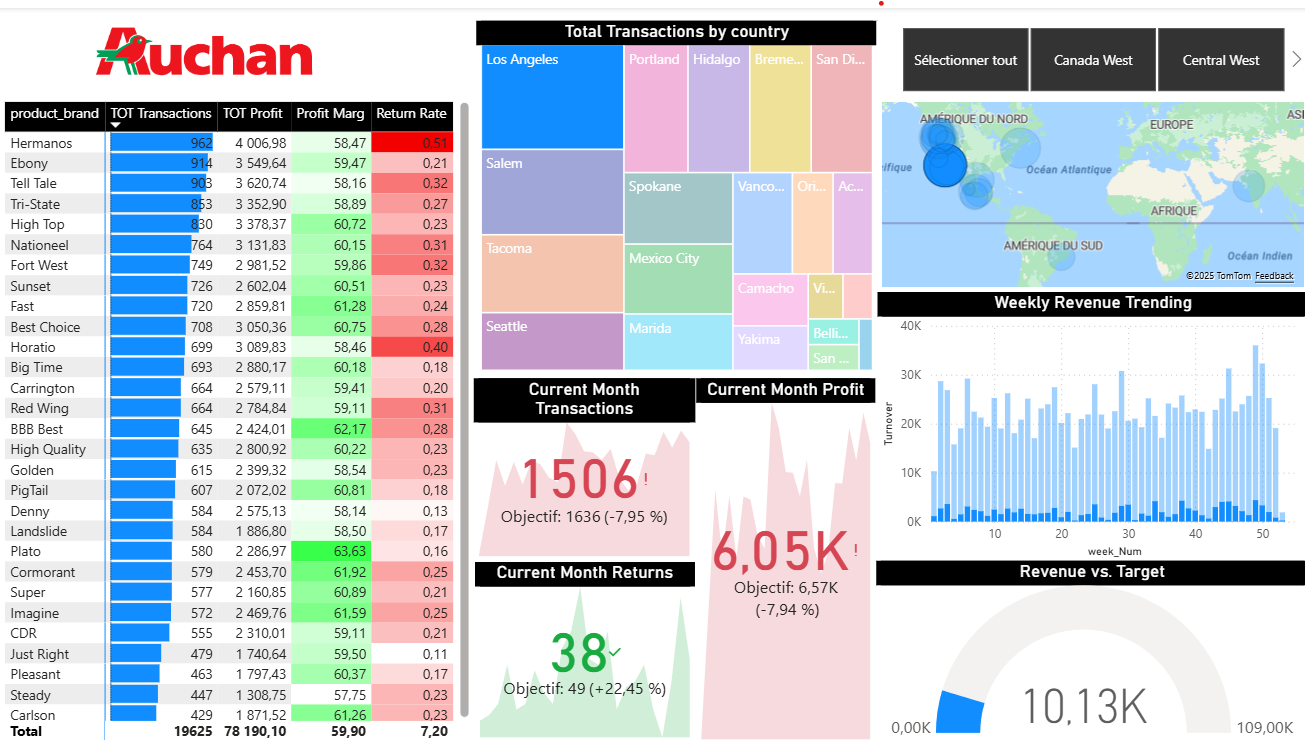

Layout of this report page (visuals, bound fields, positions):
{"tool":"powerbi","page":{"name":"Page 1","canvas":[1280,720],"ordinal":0},"visuals":[{"type":"pivotTable","fields":{"Rows":["Products.product_brand"],"Values":["Transaction.TOT Transactions","Transaction.TOT Profit","Transaction.Profit Marg","Returns_1997-1998.Return Rate"]},"box":[0,88.4,463.8,635.5],"z":0},{"type":"kpi","title":"Current Month Transactions","fields":{"Indicator":["Transaction.TOT Transactions"],"TrendLine":["Calendar.Start_Month"],"Goal":["Transaction.Last_Months_Transac"]},"box":[463.8,362.6,216.5,179.4],"z":1000},{"type":"kpi","title":"Current Month Profit ","fields":{"Indicator":["Transaction.TOT Profit"],"TrendLine":["Calendar.Start_Month"],"Goal":["Transaction.Last_Mnth_Profit"]},"box":[681.3,363.1,175.6,358.6],"z":2000},{"type":"kpi","title":"Current Month Returns","fields":{"TrendLine":["Calendar.Start_Month"],"Indicator":["Returns_1997-1998.ALL Returnns"],"Goal":["Returns_1997-1998.Last_Mnth_Returns"]},"box":[465.1,543.3,215.3,176.8],"z":3000},{"type":"azureMap","fields":{"Category":["Regions.sales_district"],"Size":["Transaction.TOT Transactions"]},"box":[857.9,87.9,422.1,190.6],"z":4000},{"type":"treemap","title":"Total Transactions by country","fields":{"Values":["Transaction.TOT Transactions"],"Group":["Regions.sales_district"]},"box":[465.7,12.9,392.9,347.1],"z":5000},{"type":"slicer","fields":{"Values":["Regions.sales_region"]},"box":[857.1,12.9,422.9,75.7],"z":6000},{"type":"columnChart","title":"Weekly Revenue Trending","fields":{"Y":["Transaction.Turnover"],"Category":["Calendar.week_Num"]},"box":[858.4,279.1,422,264.6],"z":7000},{"type":"gauge","title":"Revenue vs. Target","fields":{"Y":["Transaction.Turnover"]},"box":[856.8,541.7,423.2,178.6],"z":8000},{"type":"image","box":[0,13.5,399.2,60],"z":9000}]}

Visuals, with their boxes in screenshot pixels (x1, y1, x2, y2), scaled from the page's 1280x720 canvas onto the 1305x740 screenshot:
pivotTable - Products.product_brand x Transaction.TOT Transactions: <region>0, 91, 473, 739</region>
"Current Month Transactions" kpi: <region>473, 373, 694, 557</region>
"Current Month Profit " kpi: <region>695, 373, 874, 739</region>
"Current Month Returns" kpi: <region>474, 558, 694, 739</region>
azureMap - Regions.sales_district x Transaction.TOT Transactions: <region>875, 90, 1304, 286</region>
"Total Transactions by country" treemap: <region>475, 13, 875, 370</region>
slicer - Regions.sales_region: <region>874, 13, 1304, 91</region>
"Weekly Revenue Trending" columnChart: <region>875, 287, 1304, 559</region>
"Revenue vs. Target" gauge: <region>874, 557, 1304, 739</region>
image: <region>0, 14, 407, 76</region>
